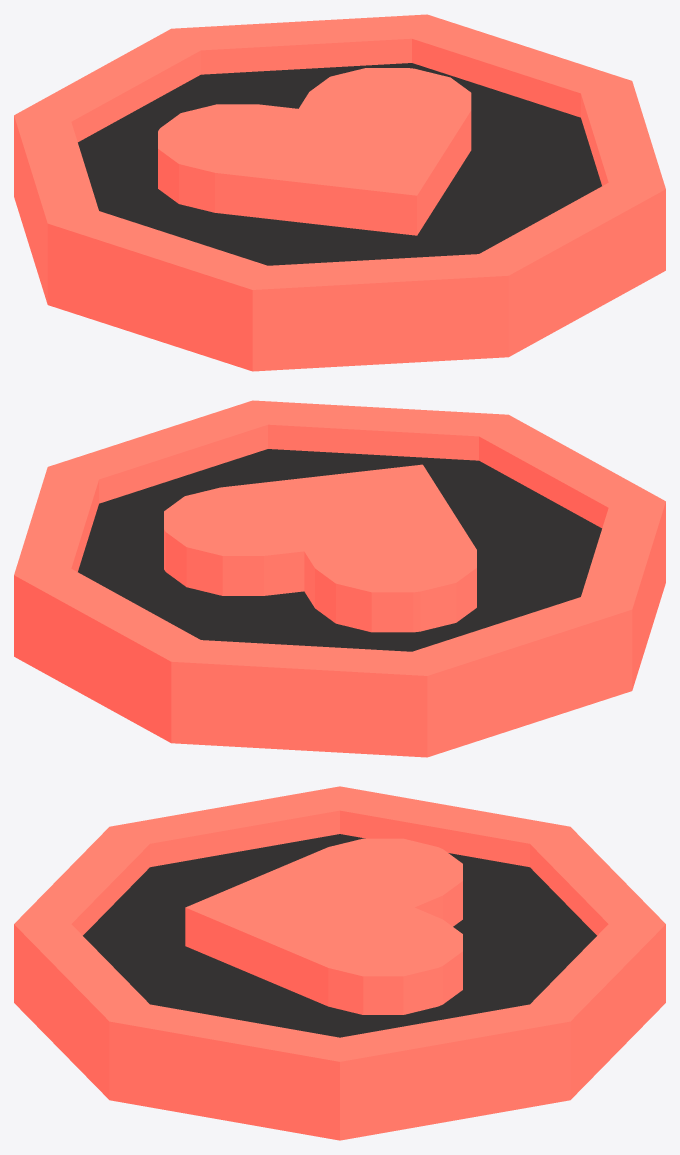
File: Powerup_Heart.fbx
3 views of the same model, one above another, from view 1: azimuth 30°, elevation 25°; view 2: azimuth 150°, elevation 25°; view 3: azimuth 270°, elevation 25° (orthographic). The views are drawn at different scales.
Visible parts, largest first — view 1: Cube.003; view 2: Cube.003; view 3: Cube.003.
Boxes of the visible parts, x1,y1,x2,y2 form: Cube.003: [14, 14, 665, 371]; Cube.003: [14, 400, 665, 757]; Cube.003: [14, 786, 665, 1140].
Bounding box in the file's own units: 357 × 70.05 × 357.
